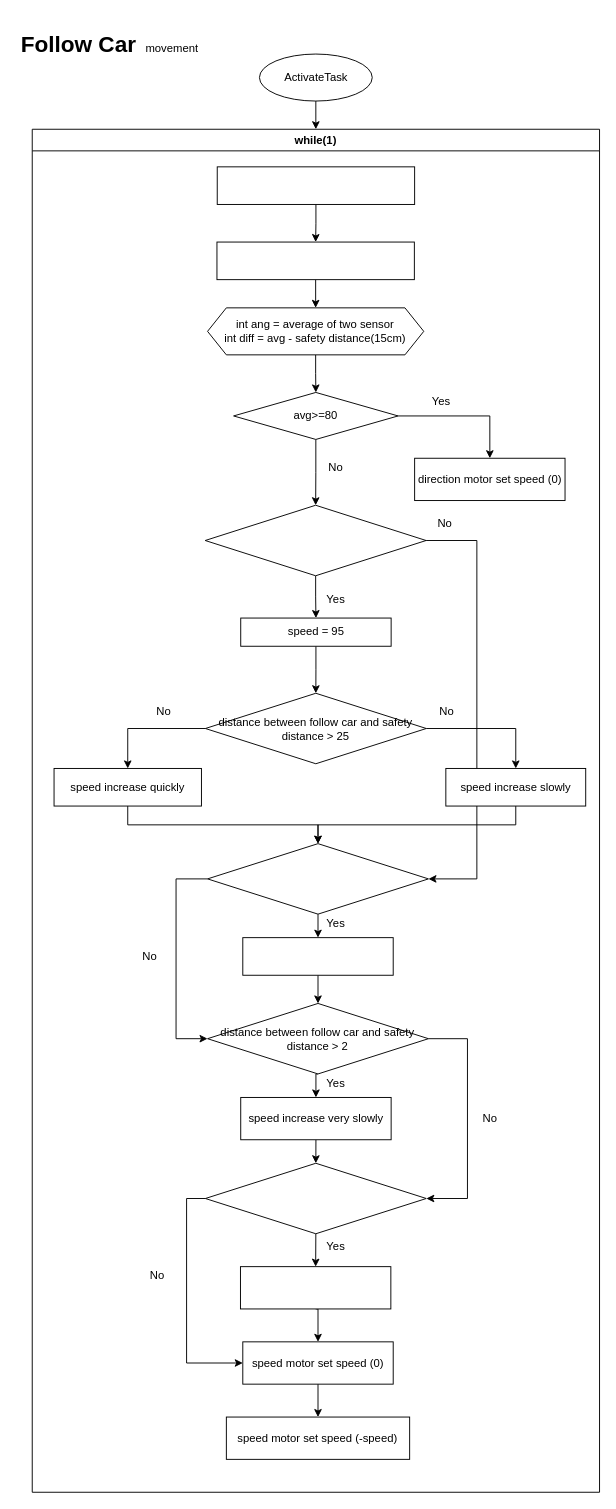
Image size: 616x1509. Some labels were removed from this diagram. The shapes that lost their labels are listed below. From the top down, each one's centre as x and y in pixels, then its label:
At pixel 315 185: "WaitEvent(MovementEvent)".
At pixel 315 260: "ClearEvent(ClearEvent)".
At pixel 315 540: "distance between follow car and safety distance > 18".
At pixel 317 878: "distance between follow car and safety distance < -2".
At pixel 317 956: "speed decrease slowly".
At pixel 315 1198: "distance between follow car and control car is 13~17".
At pixel 315 1287: "speed = 0".
